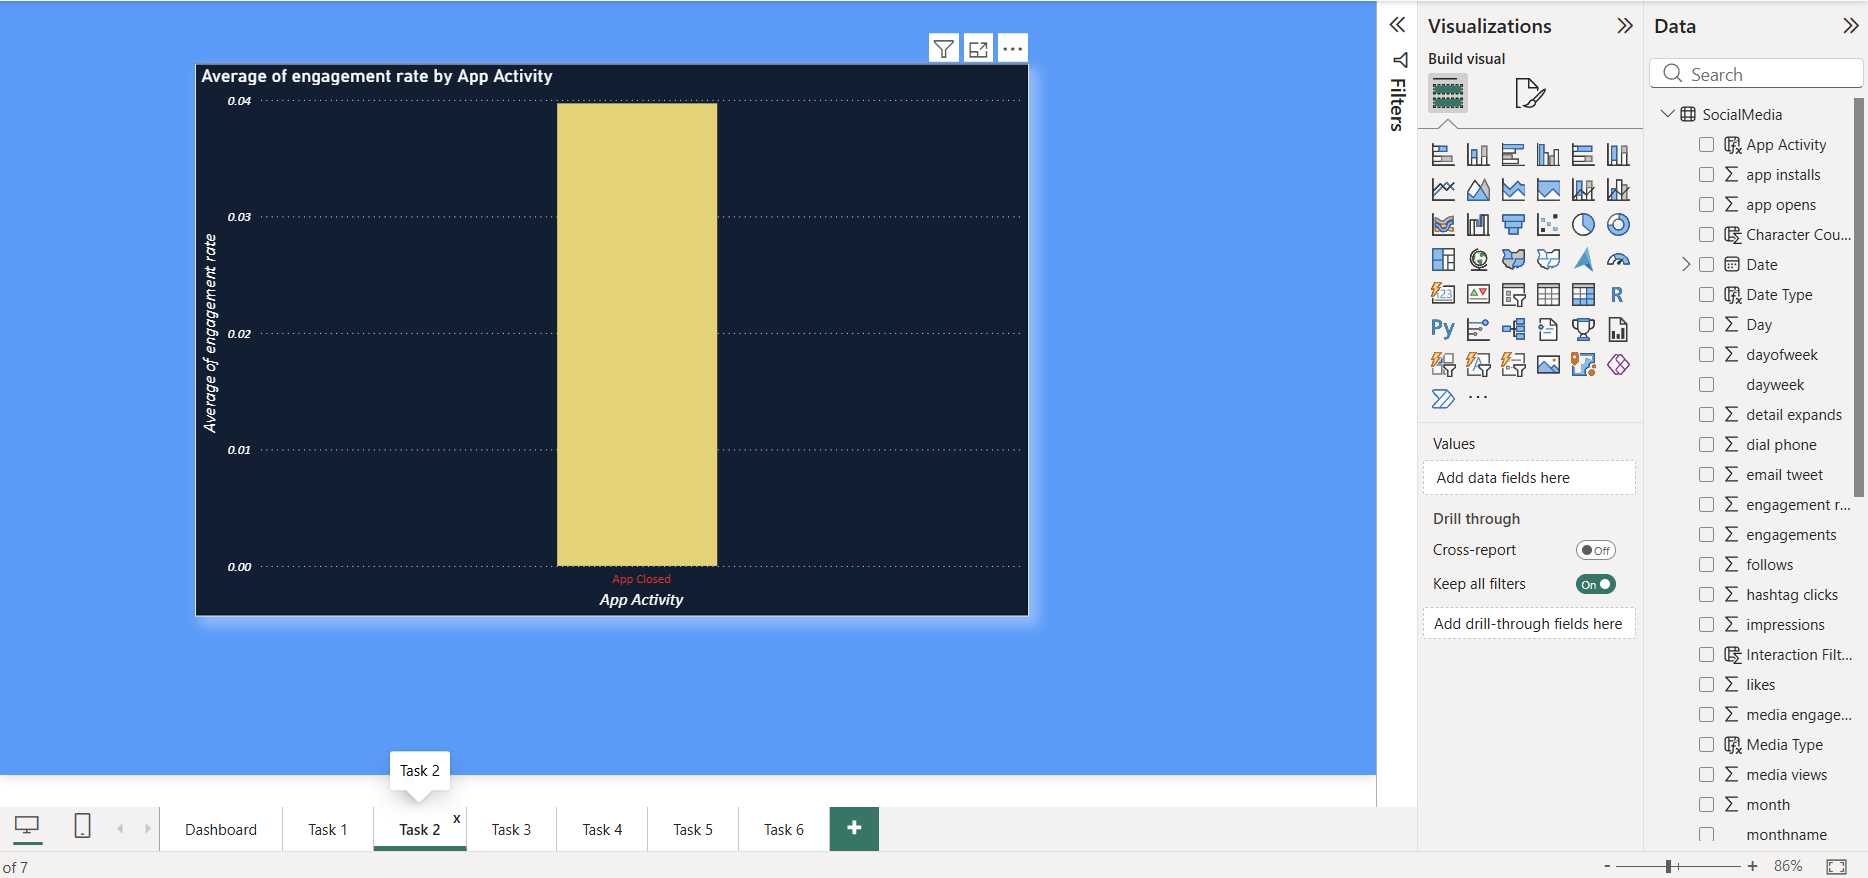

This screenshot's page, from the dashboard's own definition file:
{"tool":"powerbi","page":{"name":"Task 2","canvas":[1280,720],"ordinal":2},"visuals":[{"type":"clusteredColumnChart","fields":{"Category":["SocialMedia.App Activity"],"Y":["Avg(SocialMedia.engagement rate)"]},"box":[181.4,58.1,775.6,514],"z":0}]}

Visuals, with their boxes on the page's 1280x720 design canvas (x1, y1, x2, y2). These are canvas units, not pixel positions in the 1868x878 screenshot, which may show the page scaled, cropped or inside an application window:
clusteredColumnChart - SocialMedia.App Activity x Avg(SocialMedia.engagement rate): (181, 58, 957, 572)
